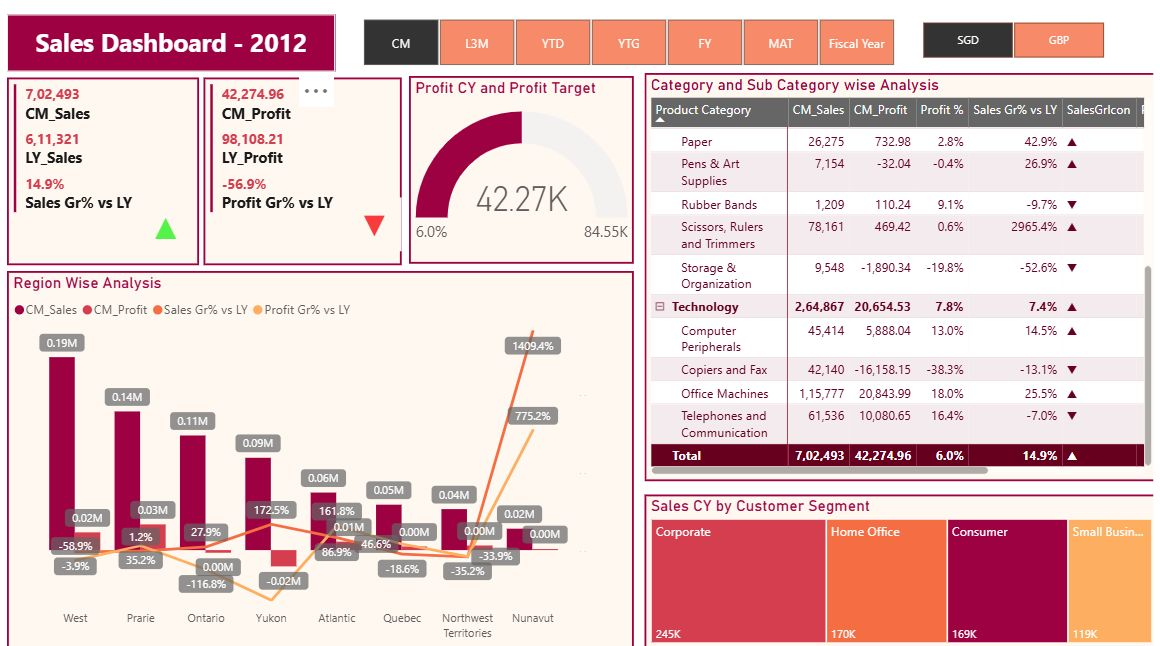

This screenshot's page, from the dashboard's own definition file:
{"tool":"powerbi","page":{"name":"Sales Dashboard -2012","canvas":[1280,720],"ordinal":0},"visuals":[{"type":"slicer","fields":{"Values":["Period Tbl.Period"]},"box":[395.1,22.7,621.8,63.1],"z":0},{"type":"multiRowCard","fields":{"Values":["AllMeasures.CM_Sales","AllMeasures.LY_Sales","AllMeasures.Sales Gr% vs LY"]},"box":[35.6,92.8,207.3,202.4],"z":0,"group":"g1"},{"type":"multiRowCard","fields":{"Values":["AllMeasures.CM_Profit","AllMeasures.LY_Profit","AllMeasures.Profit Gr% vs LY"]},"box":[247.7,92.8,213.7,202.4],"z":0,"group":"g2"},{"type":"slicer","fields":{"Values":["Currency Table.Currency"]},"box":[999.1,25.9,244.5,51.8],"z":1000},{"type":"card","fields":{"Values":["AllMeasures.SalesGrIcon"]},"box":[174.5,222,62.8,64.9],"z":1000,"group":"g1"},{"type":"group","id":"g1","title":"Group 1","box":[35.6,92.8,207.3,202.4],"z":2000},{"type":"group","id":"g2","title":"Group 1","box":[247.7,92.8,213.7,202.4],"z":3000},{"type":"card","fields":{"Values":["AllMeasures.ProfitGrIcon"]},"box":[390.2,221.8,59.9,58.3],"z":4000},{"type":"gauge","title":"Profit CY and Profit Target","fields":{"Y":["AllMeasures.CM_Profit"],"MinValue":["AllMeasures.Profit %"]},"box":[469.6,90.7,242.9,202.4],"z":5000},{"type":"pivotTable","title":"Category and Sub Category wise Analysis","fields":{"Rows":["Category Mapping.Product Category","Category Mapping.Product Sub-Category"],"Values":["AllMeasures.CM_Sales","AllMeasures.CM_Profit","AllMeasures.Profit %","AllMeasures.Sales Gr% vs LY","AllMeasures.SalesGrIcon","AllMeasures.Profit Gr% vs LY","AllMeasures.ProfitGrIcon"]},"box":[723.8,87.4,555.4,440.4],"z":6000},{"type":"lineClusteredColumnComboChart","title":"Region Wise Analysis","fields":{"Y":["AllMeasures.CM_Sales","AllMeasures.CM_Profit"],"Category":["Region Mapping.Region"],"Y2":["AllMeasures.Sales Gr% vs LY","AllMeasures.Profit Gr% vs LY"]},"box":[35.6,301.2,676.8,408],"z":7000},{"type":"textbox","box":[35.6,24.3,354.6,61.5],"z":8000},{"type":"treemap","title":"Sales CY by Customer Segment","fields":{"Group":["Customer Segment.Customer Segment"],"Values":["AllMeasures.CM_Sales"]},"box":[723.8,542.4,555.4,166.8],"z":9000}]}

Visuals, with their boxes in screenshot pixels (x1, y1, x2, y2), scaled from the page's 1280x720 canvas onto the 1160x646 screenshot:
slicer - Period Tbl.Period: detection(358, 20, 922, 77)
multiRowCard - AllMeasures.CM_Sales x AllMeasures.LY_Sales: detection(32, 83, 220, 265)
multiRowCard - AllMeasures.CM_Profit x AllMeasures.LY_Profit: detection(224, 83, 418, 265)
slicer - Currency Table.Currency: detection(905, 23, 1127, 70)
card - AllMeasures.SalesGrIcon: detection(158, 199, 215, 257)
"Group 1" group: detection(32, 83, 220, 265)
"Group 1" group: detection(224, 83, 418, 265)
card - AllMeasures.ProfitGrIcon: detection(354, 199, 408, 251)
"Profit CY and Profit Target" gauge: detection(426, 81, 646, 263)
"Category and Sub Category wise Analysis" pivotTable: detection(656, 78, 1159, 474)
"Region Wise Analysis" lineClusteredColumnComboChart: detection(32, 270, 646, 636)
textbox: detection(32, 22, 354, 77)
"Sales CY by Customer Segment" treemap: detection(656, 487, 1159, 636)
